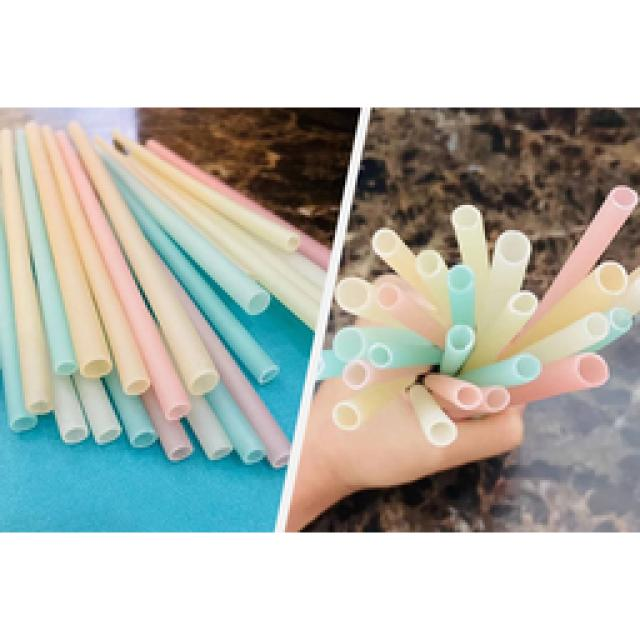plastic: (0, 122, 322, 465), (320, 185, 638, 445)
